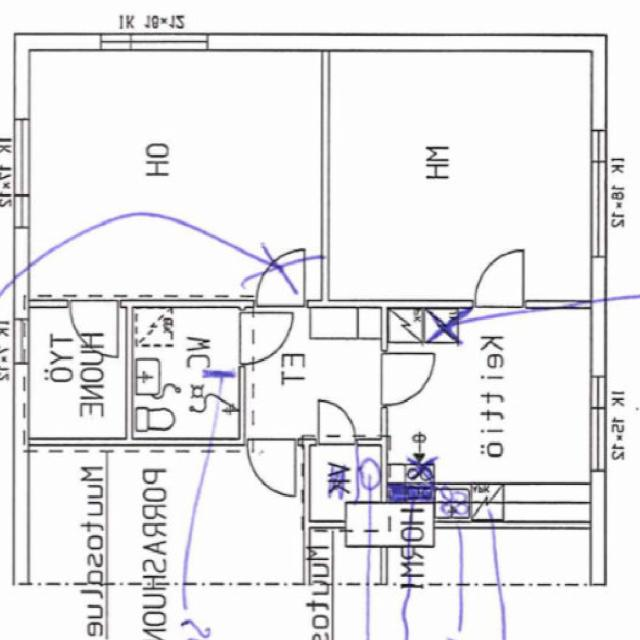door: (248, 438, 296, 498), (70, 300, 118, 360), (476, 250, 524, 308), (382, 353, 436, 404), (239, 312, 293, 363), (319, 398, 355, 445)
